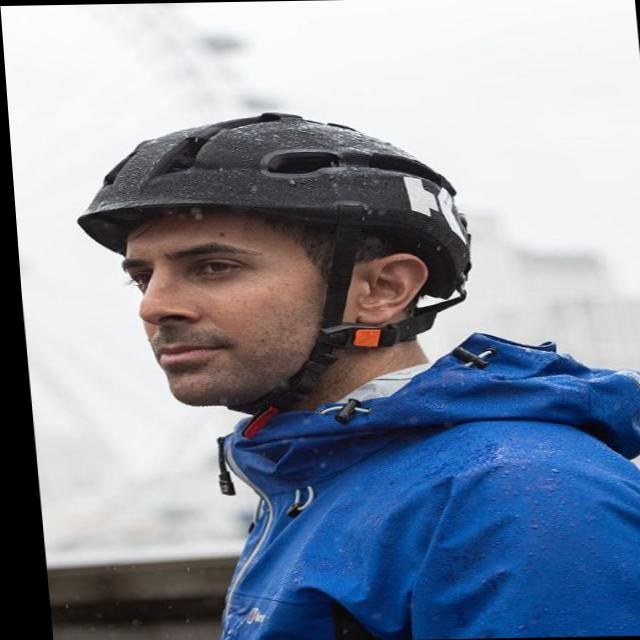helmet: (66, 102, 484, 444)
